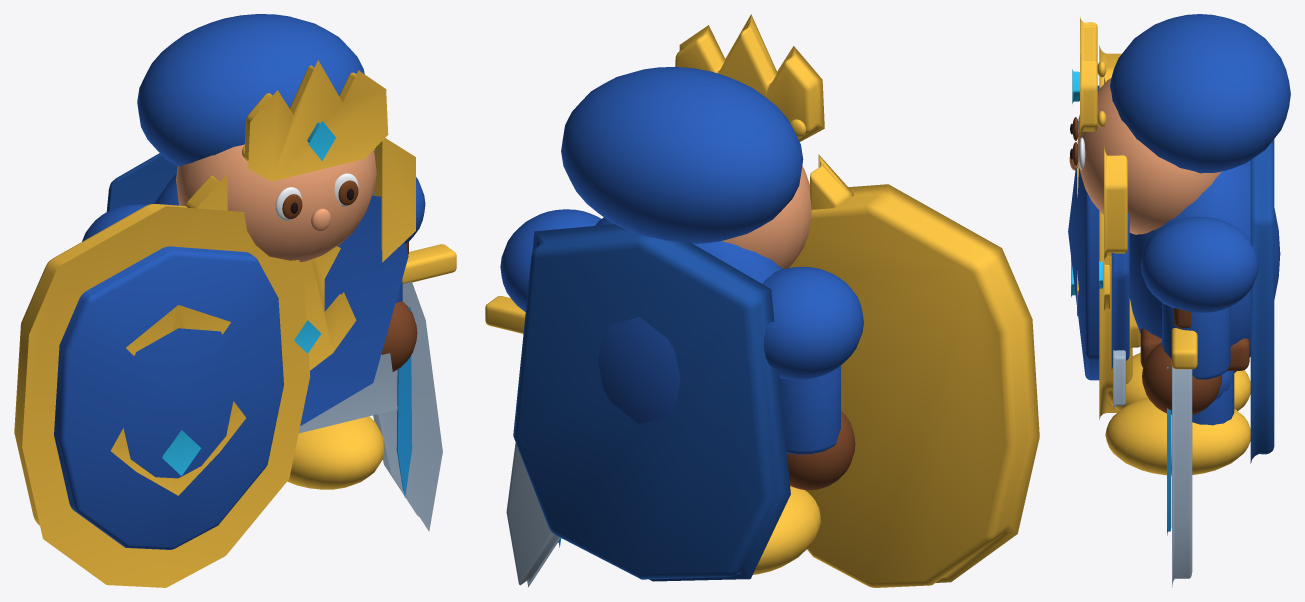
Rendered from Tank.fbx.
3 renders of one model, left to right at view 1: azimuth 30°, elevation 25°; view 2: azimuth 150°, elevation 25°; view 3: azimuth 270°, elevation 25°, orthographic. The views are drawn at different scales.
Visible parts, largest first — view 1: Royal Shield Blue Field, Royal Shield Gold Rim, Helmet Dome, Face, Crown Forehead, Raised Chestplate, Knight Broad Sword, Boot R, Cheek Guard.001, Shield Crown Crest, Cuirass Crown Crest, Armour Fauld 2 (+8 smaller); view 2: Layered Cape, Royal Shield Gold Rim, Helmet Dome, Pauldron L, Armour Core, Crown Forehead, Bracer L, Knight Broad Sword, Face, Pauldron R, Boot L, Glove L (+2 smaller); view 3: Helmet Dome, Pauldron R, Face, Layered Cape, Armour Core, Boot R, Royal Shield Blue Field, Knight Broad Sword, Bracer R, Royal Shield Gold Rim, Glove R, Cheek Guard.001 (+11 smaller).
Part boxes in pixels (x1,y1,x2,y2): Royal Shield Blue Field: [54, 246, 283, 549]; Royal Shield Gold Rim: [14, 204, 310, 587]; Helmet Dome: [137, 14, 364, 166]; Face: [176, 144, 376, 262]; Crown Forehead: [244, 60, 388, 181]; Raised Chestplate: [300, 195, 408, 425]; Knight Broad Sword: [373, 281, 442, 531]; Boot R: [287, 416, 384, 489]; Cheek Guard.001: [374, 138, 415, 262]; Shield Crown Crest: [111, 305, 245, 495]; Cuirass Crown Crest: [300, 246, 356, 370]; Armour Fauld 2: [319, 353, 397, 428]; Layered Cape: [513, 224, 790, 581]; Royal Shield Gold Rim: [789, 184, 1039, 587]; Helmet Dome: [561, 67, 803, 243]; Pauldron L: [762, 266, 863, 379]; Armour Core: [595, 217, 782, 423]; Crown Forehead: [675, 14, 824, 141]; Bracer L: [780, 365, 840, 454]; Knight Broad Sword: [506, 443, 560, 587]; Face: [721, 166, 811, 268]; Pauldron R: [500, 209, 600, 311]; Boot L: [753, 486, 820, 574]; Glove L: [787, 411, 855, 490]; Helmet Dome: [1110, 14, 1290, 173]; Pauldron R: [1140, 216, 1258, 312]; Face: [1077, 78, 1221, 234]; Layered Cape: [1250, 139, 1274, 463]; Armour Core: [1129, 160, 1280, 372]; Boot R: [1105, 397, 1250, 475]; Royal Shield Blue Field: [1068, 85, 1099, 380]; Knight Broad Sword: [1172, 367, 1192, 587]; Bracer R: [1162, 302, 1230, 379]; Royal Shield Gold Rim: [1099, 45, 1132, 419]; Glove R: [1142, 342, 1222, 414]; Cheek Guard.001: [1104, 146, 1127, 260].
Bounding box in the file's own units: 212 × 234 × 94.25.
